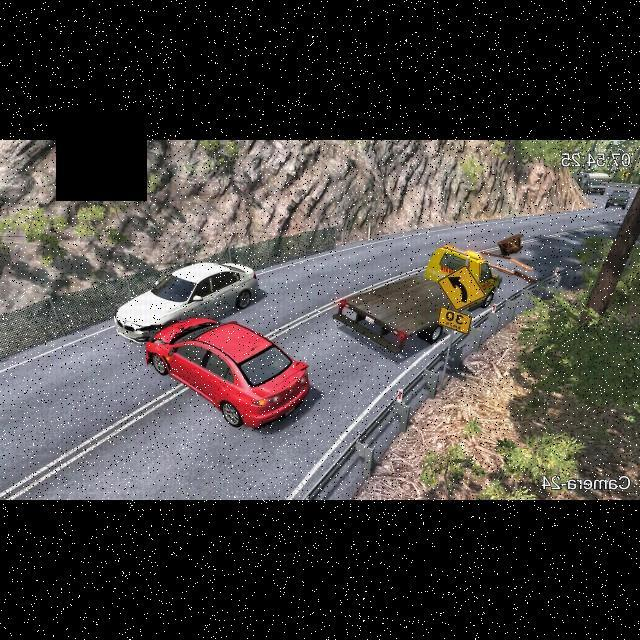moderate: (110, 258, 312, 430)
